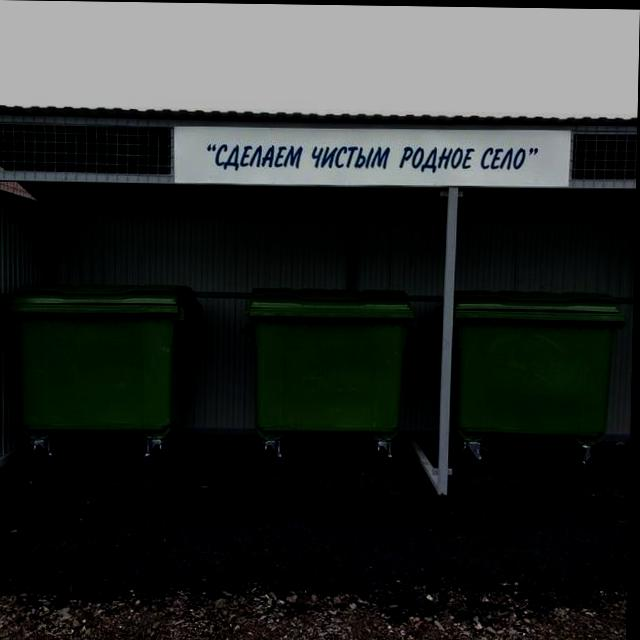Trash_Can_Closed: (3, 279, 205, 440), (451, 288, 627, 434), (246, 285, 417, 434)
